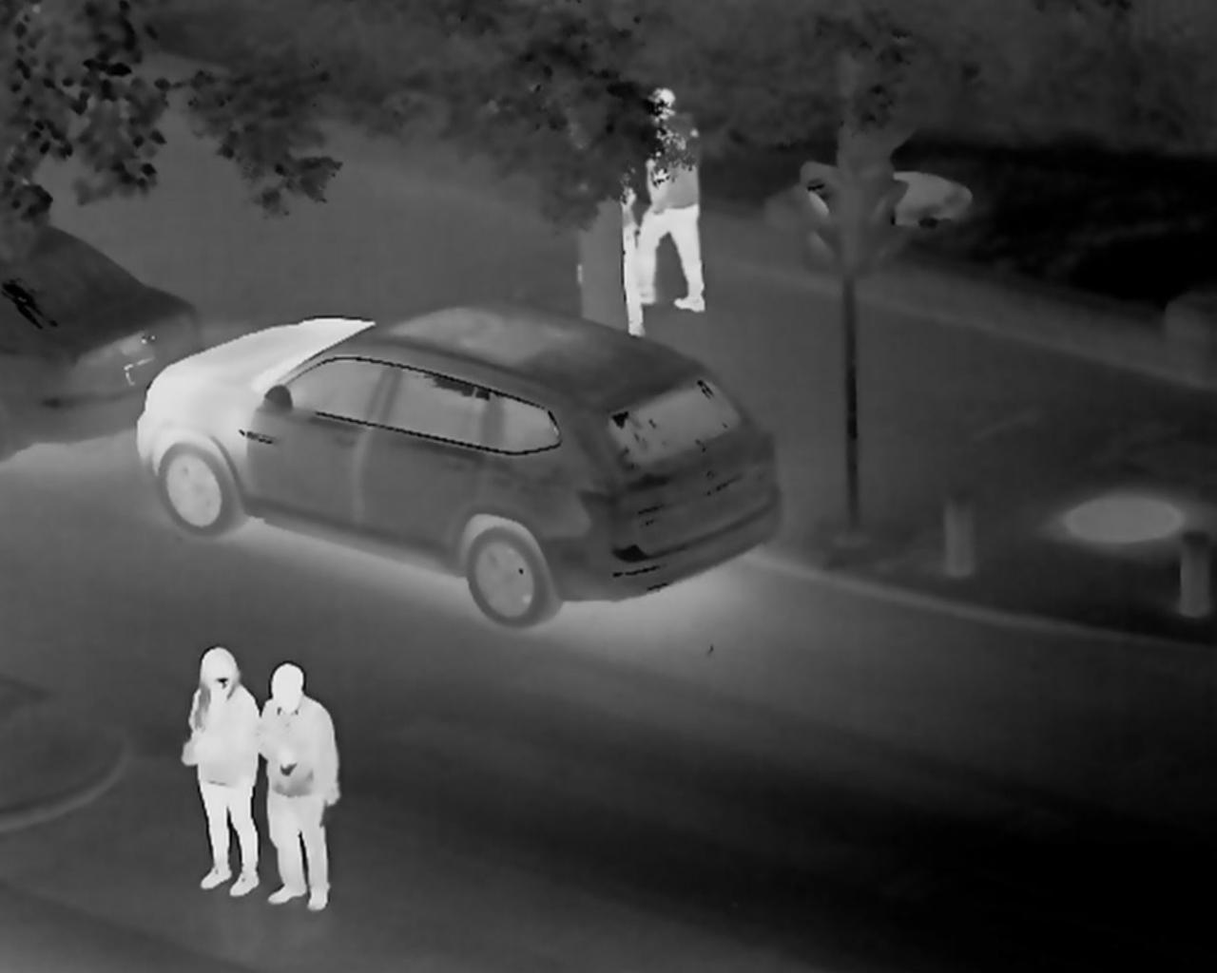person: (255, 660, 337, 916), (183, 636, 261, 895), (630, 87, 710, 314)
